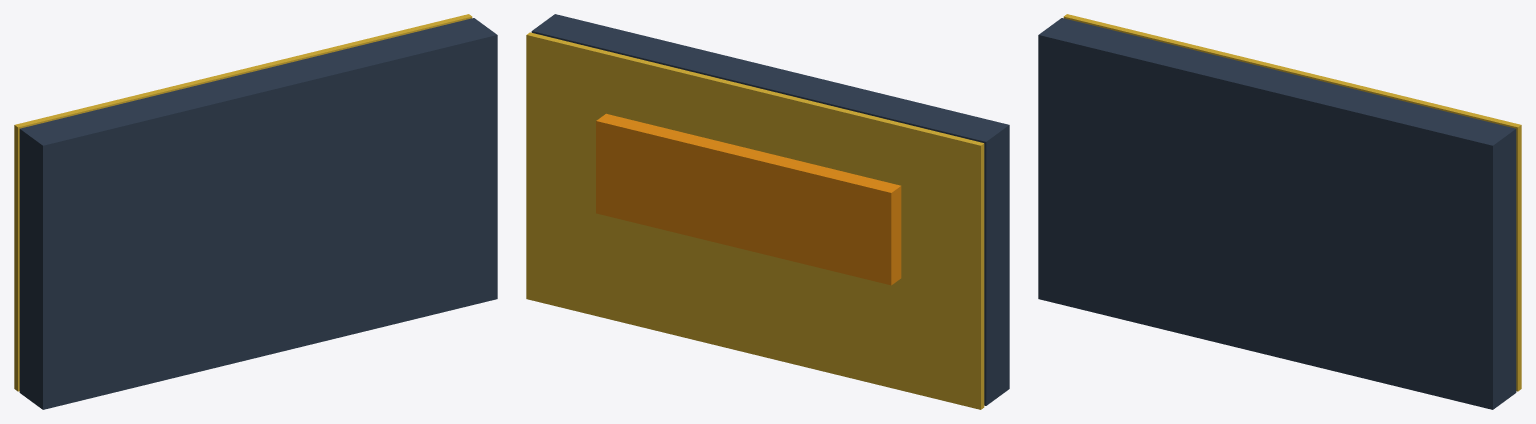
The model's file is Hộp đèn tôn rỉ sét 45 x 25.obj.
The picture shows the model from 3 angles, left to right: view 1: azimuth 30°, elevation 25°; view 2: azimuth 150°, elevation 25°; view 3: azimuth 330°, elevation 25°; orthographic projection.
Parts seen in each view (by area): view 1: Khung_Ket_Cau, Vien_Kim_Loai_Nẹp; view 2: Vien_Kim_Loai_Nẹp, Chu_Noi_3D_Logo, Khung_Ket_Cau; view 3: Khung_Ket_Cau, Vien_Kim_Loai_Nẹp.
Part boxes in pixels (left/top/right/bottom): Khung_Ket_Cau: left=19, top=18, right=497, bottom=409; Vien_Kim_Loai_Nẹp: left=14, top=14, right=472, bottom=391; Vien_Kim_Loai_Nẹp: left=526, top=32, right=984, bottom=409; Chu_Noi_3D_Logo: left=596, top=113, right=901, bottom=285; Khung_Ket_Cau: left=531, top=14, right=1009, bottom=405; Khung_Ket_Cau: left=1038, top=18, right=1516, bottom=409; Vien_Kim_Loai_Nẹp: left=1063, top=14, right=1521, bottom=391.
Size of the model in its own units: 0.45 by 0.25 by 0.066.
